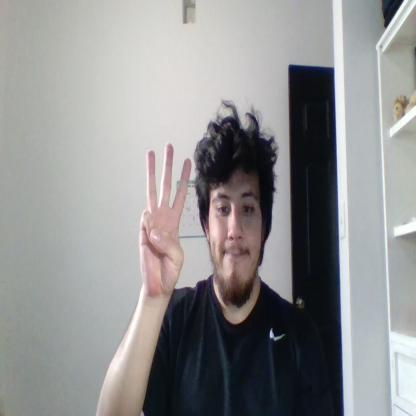W: (139, 143, 191, 295)
